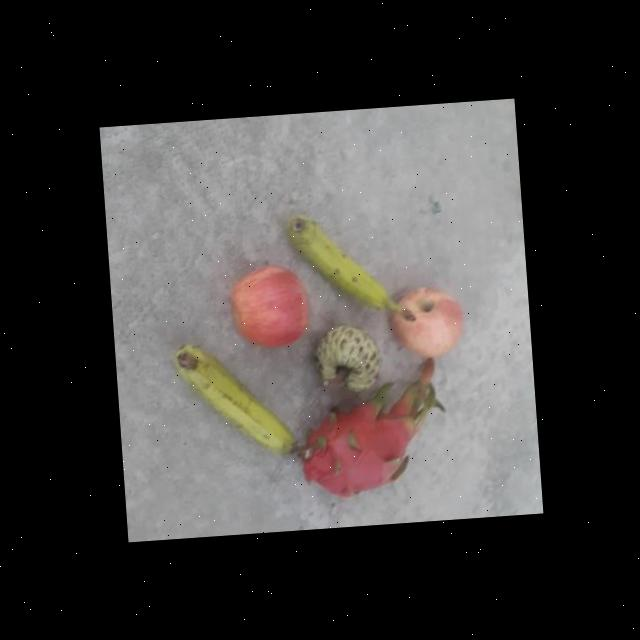Sakya fruit: (308, 322, 383, 396)
apple: (226, 260, 313, 356), (385, 282, 467, 362)
banana: (283, 204, 417, 331), (172, 334, 297, 462)
pitaya: (293, 394, 434, 500)
